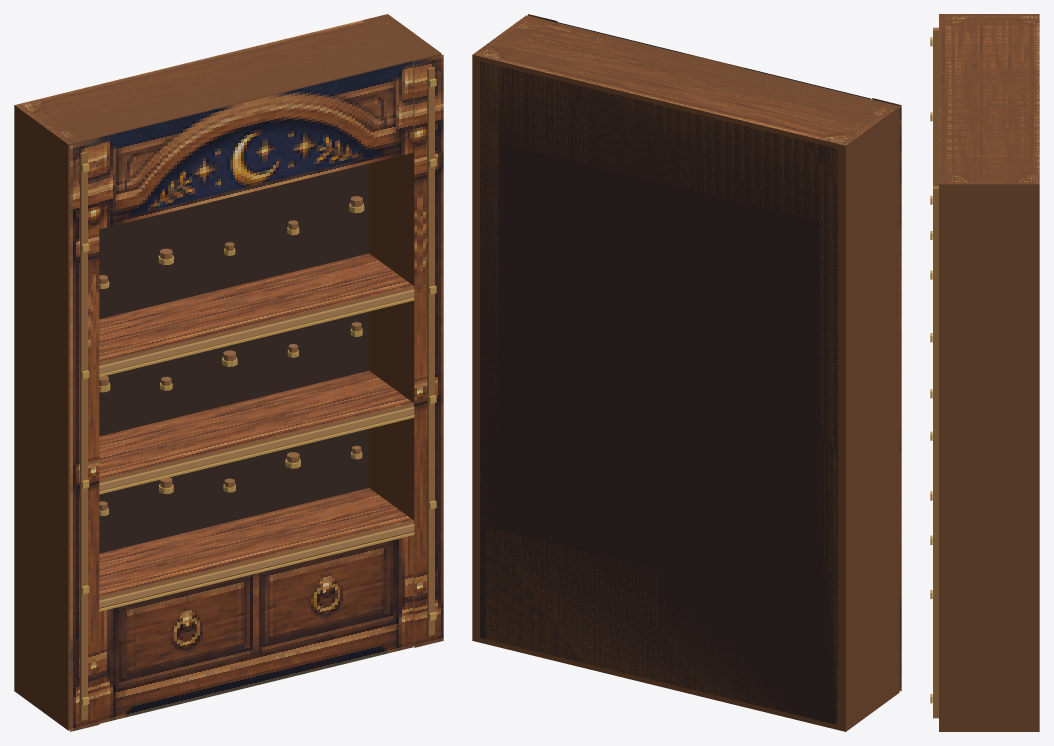
The model's file is potion-cabinet.glb.
The picture shows the model from 3 angles, left to right: view 1: azimuth 30°, elevation 25°; view 2: azimuth 150°, elevation 25°; view 3: azimuth 270°, elevation 25°; orthographic projection. The views are drawn at different scales.
Visible parts, largest first — view 1: Potion Cabinet with 3D Wares; view 2: Potion Cabinet with 3D Wares; view 3: Potion Cabinet with 3D Wares.
Boxes of the visible parts, x1,y1,x2,y2 form: Potion Cabinet with 3D Wares: (14,14,443,731); Potion Cabinet with 3D Wares: (472,14,901,731); Potion Cabinet with 3D Wares: (930,14,1039,731).
Bounding box in the file's own units: 2 × 3 × 0.543.
Materials: 7 (1 with a texture image).
